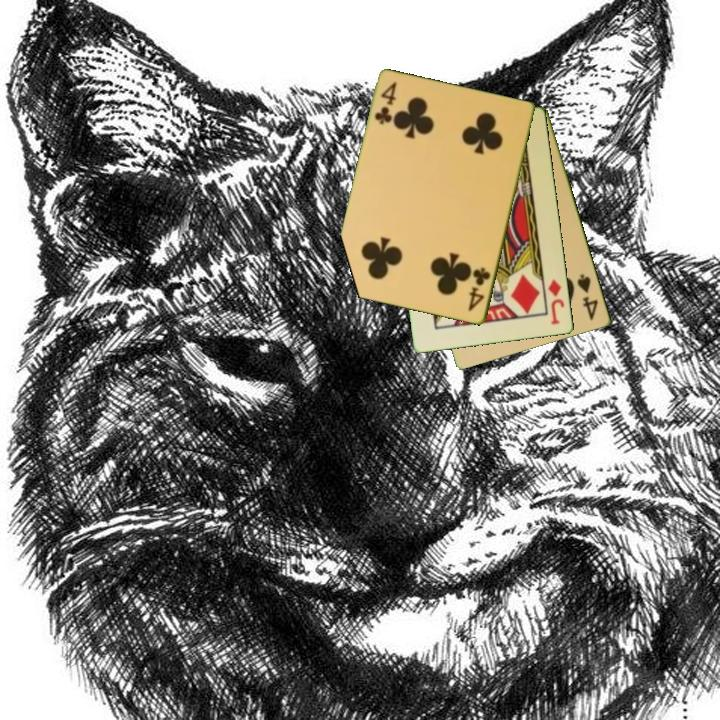4c: (465, 264, 494, 314), (371, 78, 400, 128)
4s: (574, 271, 601, 323)
Jd: (544, 276, 567, 328)
